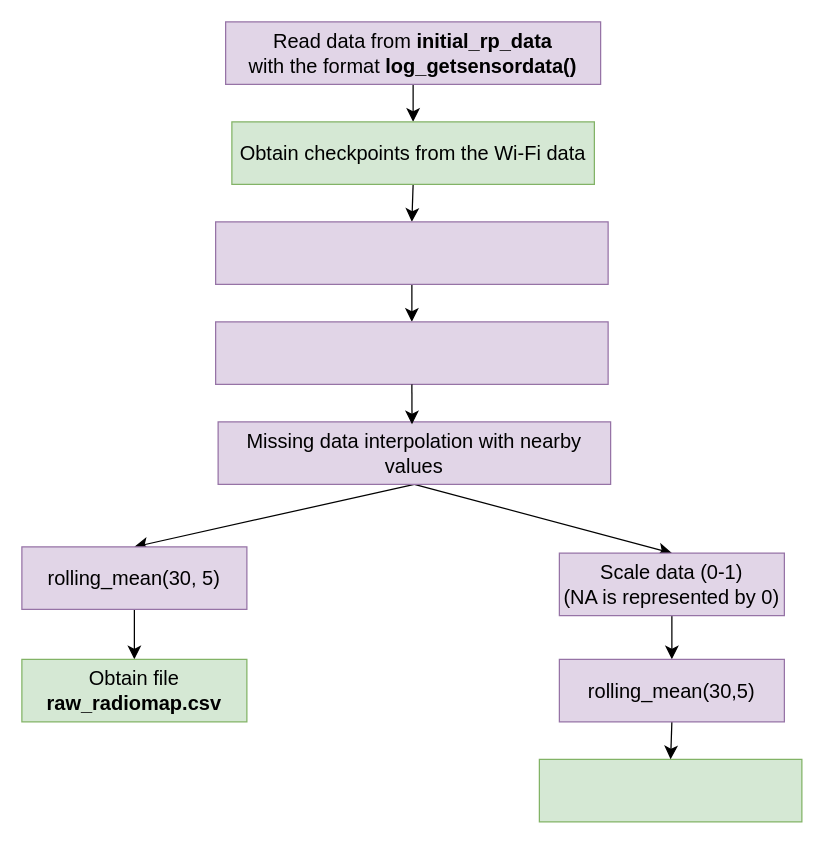
Image size: 824x844. Some labels were removed from this diagram. The shapes that lost their labels are listed below. From the top down, each one's box as (x1, y1, x2, y2) in pixels, then its label:
(214, 221, 608, 284): Obtain Fingerprints (1 per second)
(214, 321, 608, 384): Replacement of NAs by the global minimum of RSS - 1
(538, 758, 802, 822): Obtain file processed_radiomap.csv
